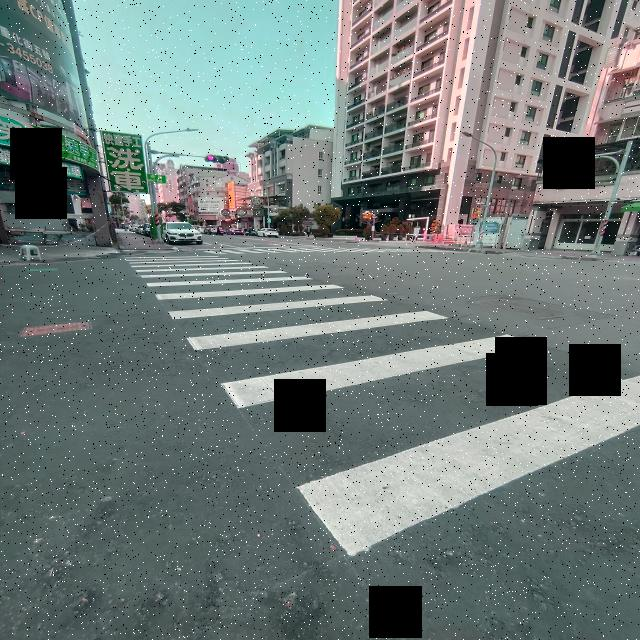zebra_crossing: (256, 129, 640, 377), (532, 250, 640, 505)
